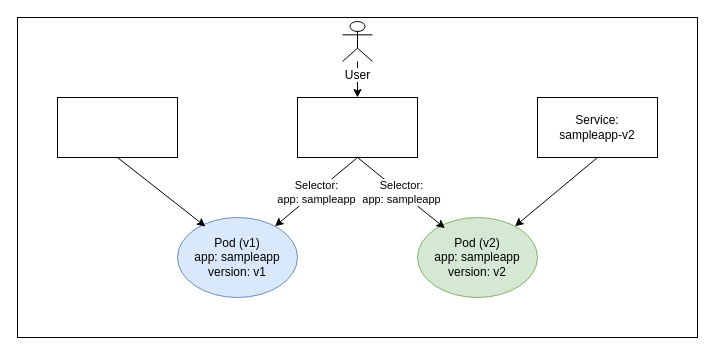
Image size: 715x355. Some labels were removed from this diagram. Here are the shapes that lost their labels. From the top down, the centre of each, then its label:
At [117,127]: "Service: sampleapp-v1".
At [357,127]: "Service: sampleapp-canary".
